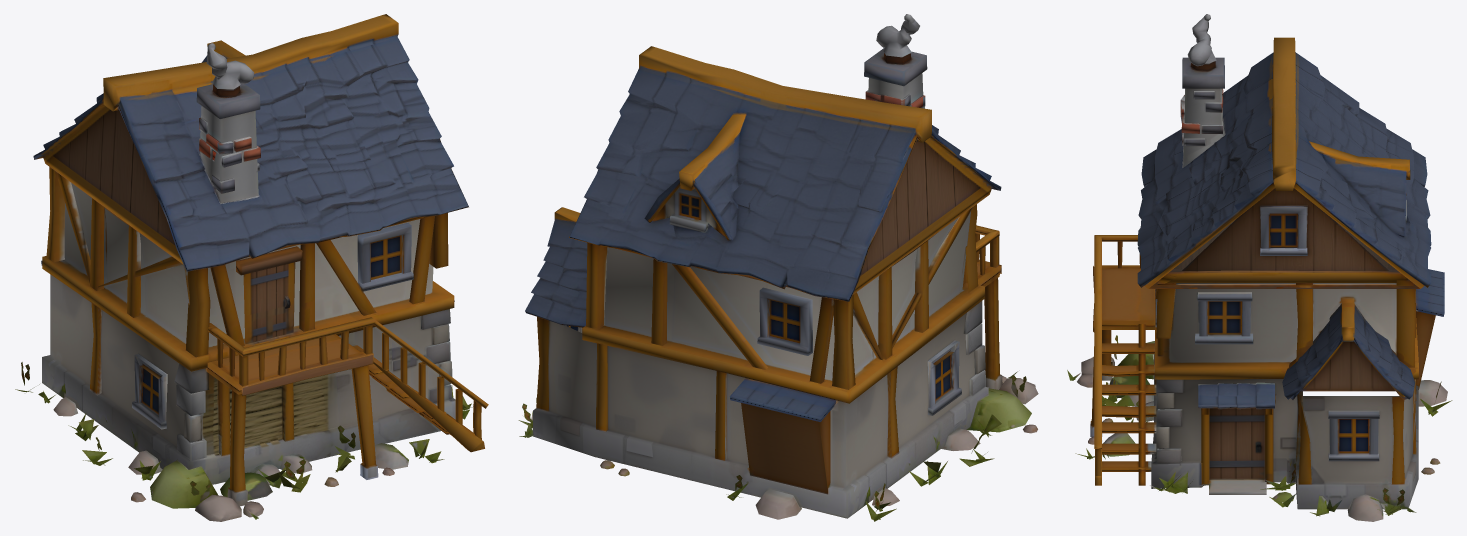
Rendered from cottage.fbx.
The picture shows the model from 3 angles, left to right: view 1: azimuth 30°, elevation 25°; view 2: azimuth 150°, elevation 25°; view 3: azimuth 270°, elevation 25°; orthographic projection. The views are drawn at different scales.
Visible parts, largest first — view 1: tripo_30dd13fc_b529_480c_9c64_bb0e01b7355e; view 2: tripo_30dd13fc_b529_480c_9c64_bb0e01b7355e; view 3: tripo_30dd13fc_b529_480c_9c64_bb0e01b7355e.
Boxes of the visible parts, <box> form: tripo_30dd13fc_b529_480c_9c64_bb0e01b7355e: <box>15,14,488,521</box>; tripo_30dd13fc_b529_480c_9c64_bb0e01b7355e: <box>518,14,1038,521</box>; tripo_30dd13fc_b529_480c_9c64_bb0e01b7355e: <box>1067,14,1452,521</box>.
Bounding box in the file's own units: 0.9995 × 0.9976 × 0.9155.
